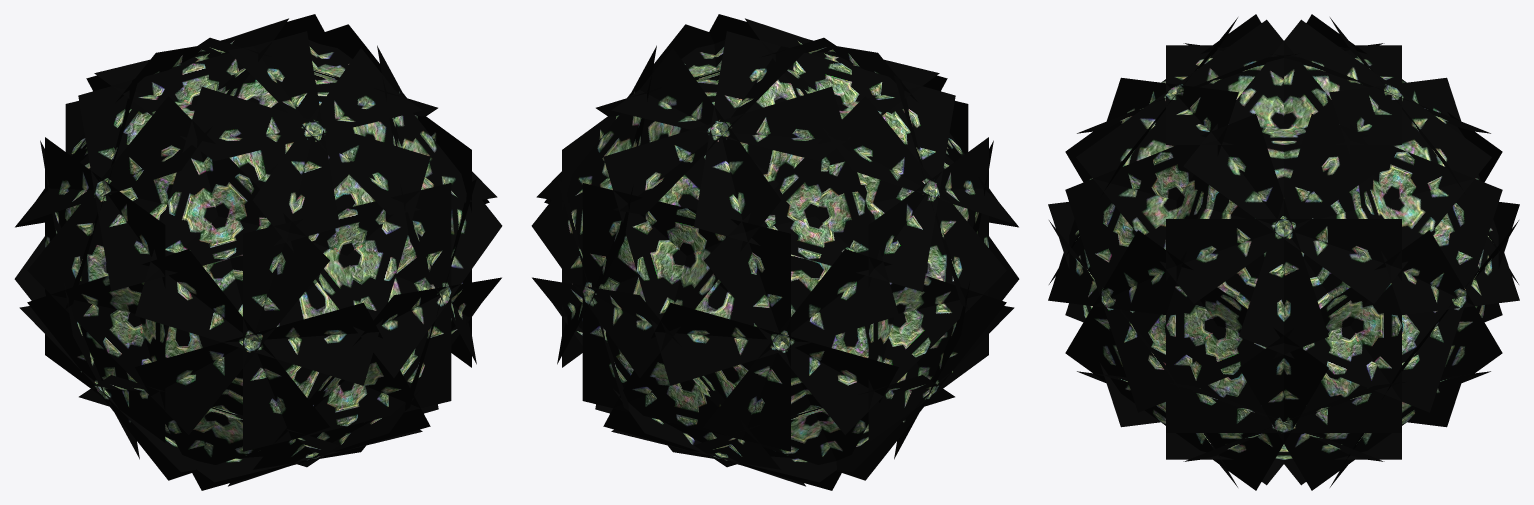
File: 27GreatTruncatedIcosidodecahedron.gltf
The picture shows the model from 3 angles, left to right: view 1: azimuth 30°, elevation 25°; view 2: azimuth 150°, elevation 25°; view 3: azimuth 270°, elevation 25°; orthographic projection. The views are drawn at different scales.
Parts seen in each view (by area): view 1: 1GreatTruncatedIcosidodecahedron; view 2: 1GreatTruncatedIcosidodecahedron; view 3: 1GreatTruncatedIcosidodecahedron.
Boxes of the visible parts, x1,y1,x2,y2 form: 1GreatTruncatedIcosidodecahedron: [14, 14, 502, 490]; 1GreatTruncatedIcosidodecahedron: [531, 14, 1019, 490]; 1GreatTruncatedIcosidodecahedron: [1048, 14, 1519, 490].
Bounding box in the file's own units: 2 × 2 × 2.
Materials: 1 (1 with a texture image).
